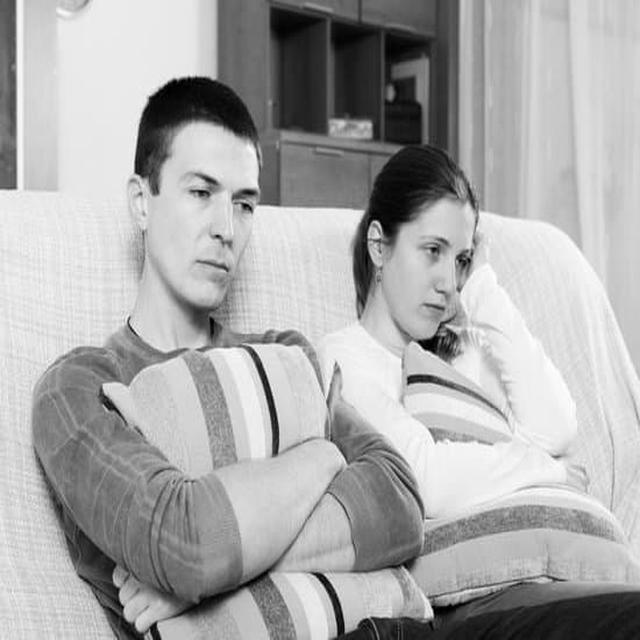Sadness: (173, 122, 258, 310), (414, 200, 473, 340)
